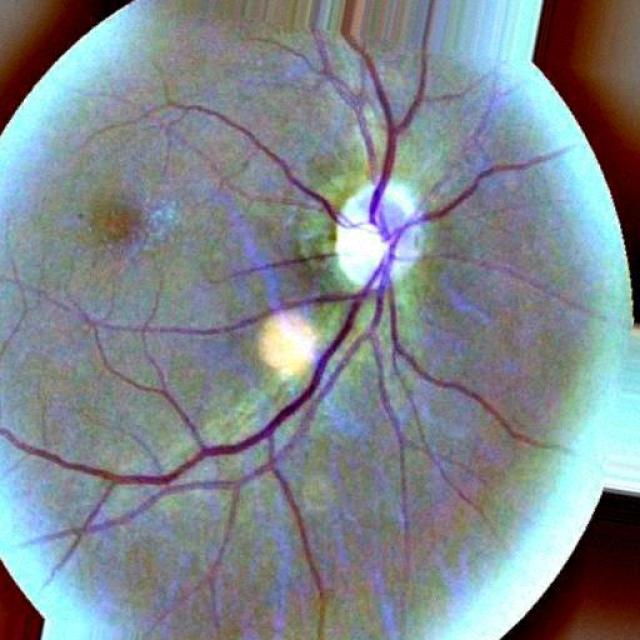Macula: (79, 191, 155, 252)
Nerves: (11, 240, 453, 504), (367, 63, 539, 245), (167, 108, 273, 157), (275, 159, 337, 220)
Optic Disk: (334, 184, 442, 300)
